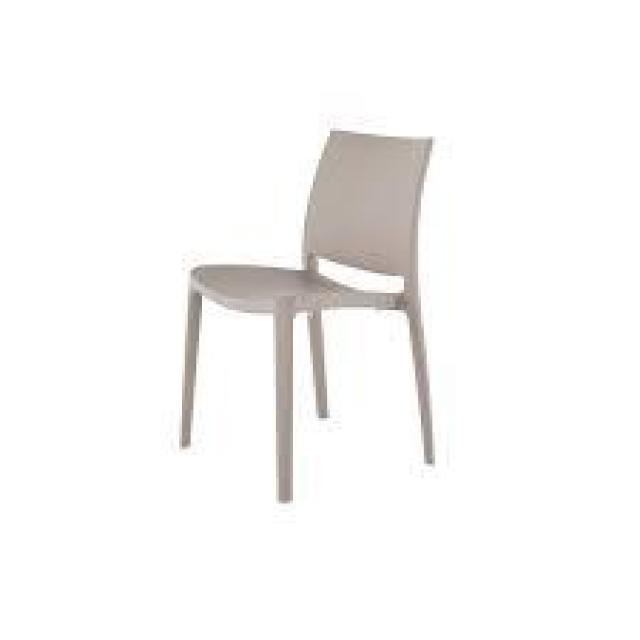chair: (122, 67, 472, 516)
